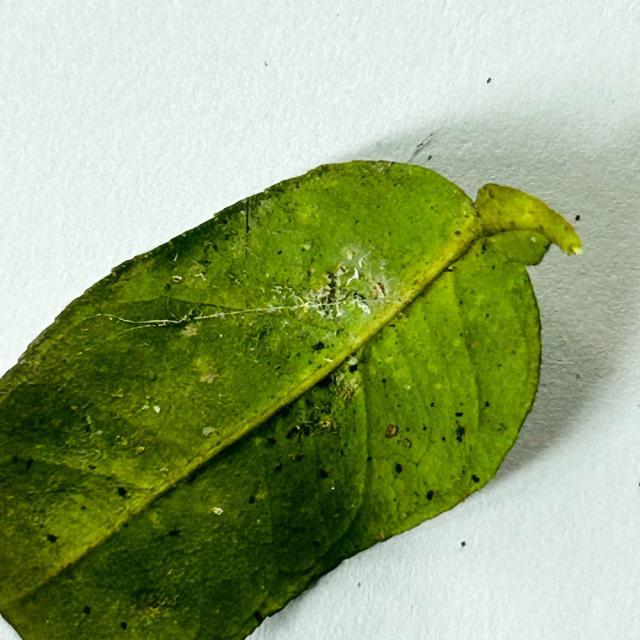Bacterial_Blight: (380, 382, 482, 494), (150, 253, 278, 337), (70, 389, 169, 462), (265, 405, 346, 487), (168, 264, 214, 298), (286, 410, 338, 440), (132, 587, 172, 618), (191, 355, 225, 387), (384, 422, 414, 452), (383, 425, 417, 449), (8, 454, 36, 475), (82, 414, 104, 439), (287, 423, 308, 443), (454, 422, 465, 442), (114, 436, 129, 448), (499, 423, 509, 431), (511, 349, 517, 355)
Lemon: (0, 160, 583, 639)
